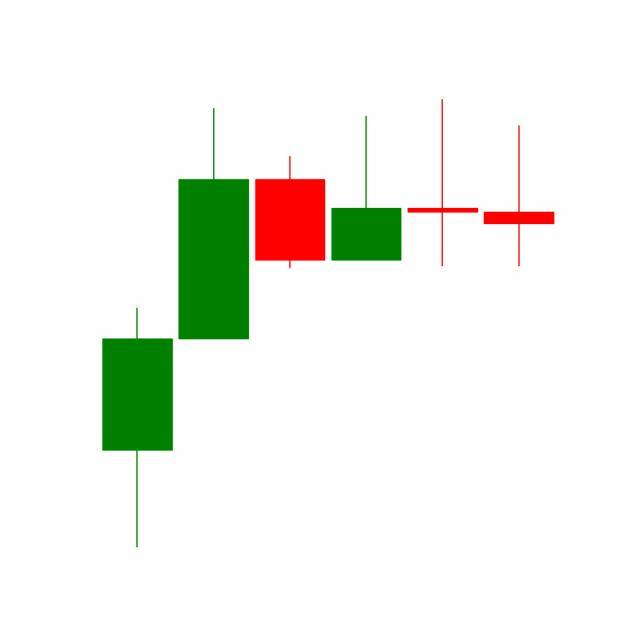Spinning Top: (404, 97, 482, 269)
